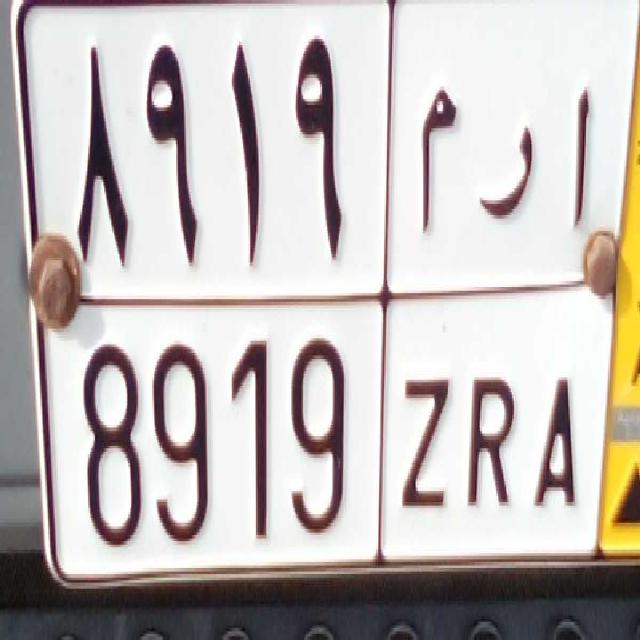license_plate: (70, 291, 596, 582)
